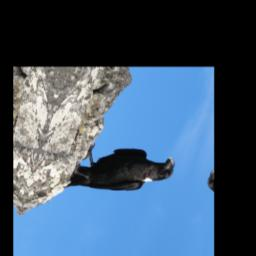Crow: (63, 135, 180, 211)
